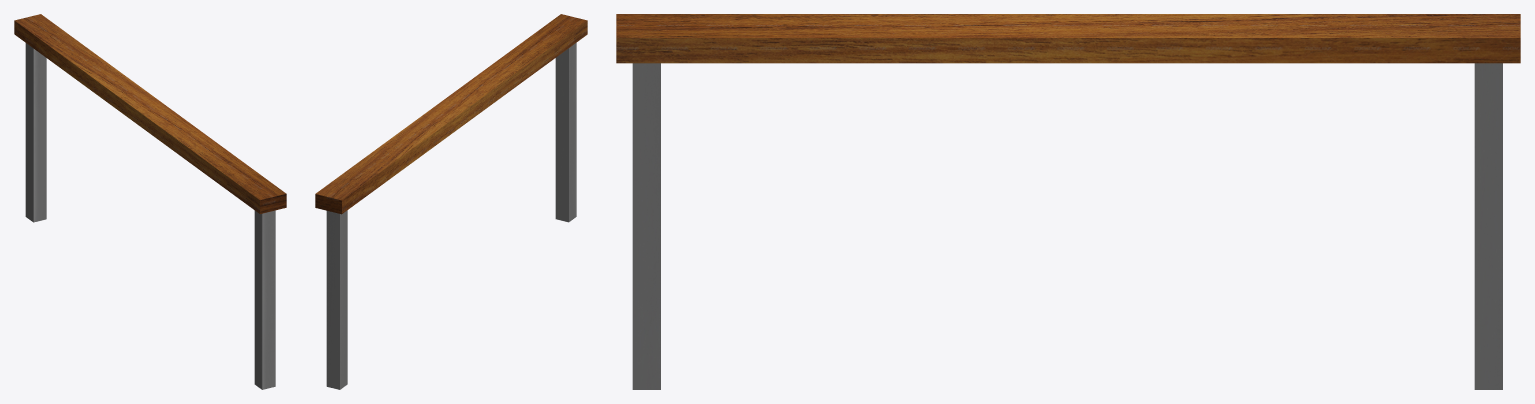
The model's file is railing.obj.
3 views of the same model, side by side, from view 1: azimuth 30°, elevation 25°; view 2: azimuth 150°, elevation 25°; view 3: azimuth 270°, elevation 25° (orthographic). The views are drawn at different scales.
Visible parts, largest first — view 1: pCube2; view 2: pCube2; view 3: pCube2.
Boxes of the visible parts, x1,y1,x2,y2 form: pCube2: [14, 14, 286, 389]; pCube2: [315, 14, 587, 389]; pCube2: [616, 14, 1520, 389].
Bounding box in the file's own units: 0.5 × 3.5 × 8.
Materials: 1 (1 with a texture image).
